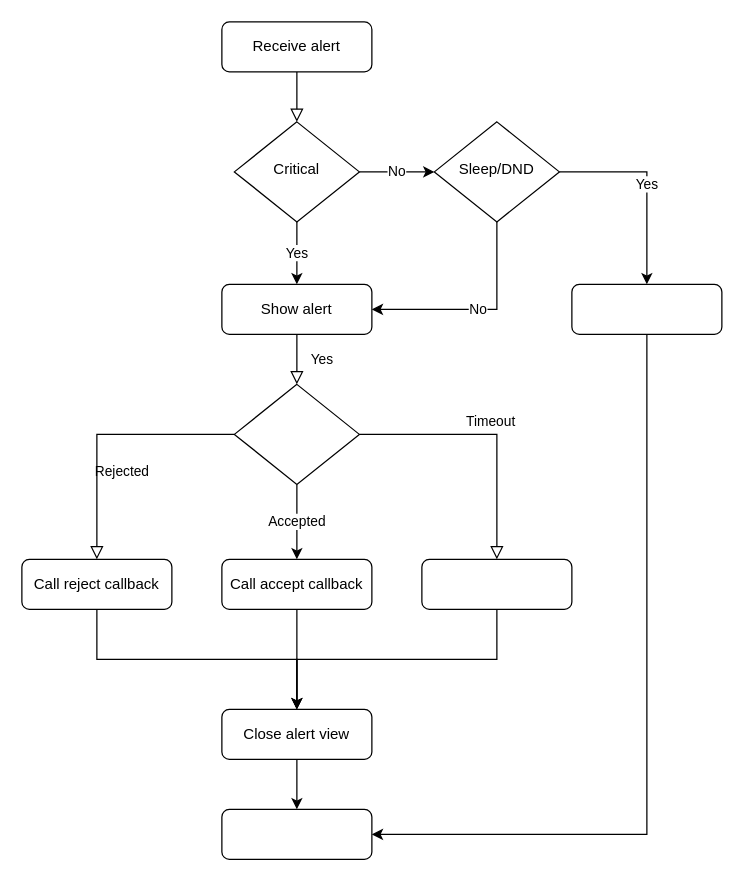
Some shapes in this 744 by 881 pixel diagram are drawn without their labels. Here are the shapes that lost their labels. From the top down, the box of each, then its label:
(571, 283, 722, 334): Add as notification
(233, 383, 359, 484): Response
(421, 558, 572, 609): Call timeout callback
(221, 808, 372, 859): Done
